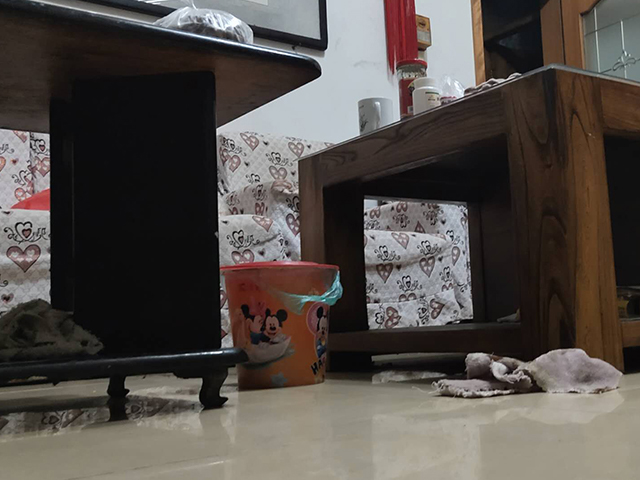sofa: (1, 128, 479, 383)
table: (1, 1, 323, 410), (290, 62, 640, 378)
trashcan: (220, 258, 344, 392)
